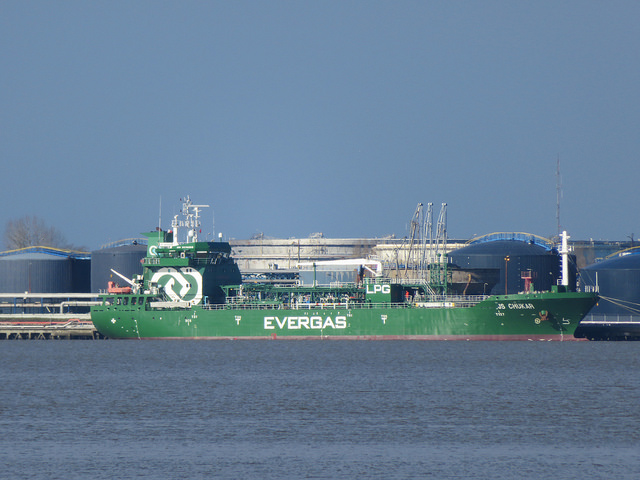tanker: (83, 207, 604, 341)
